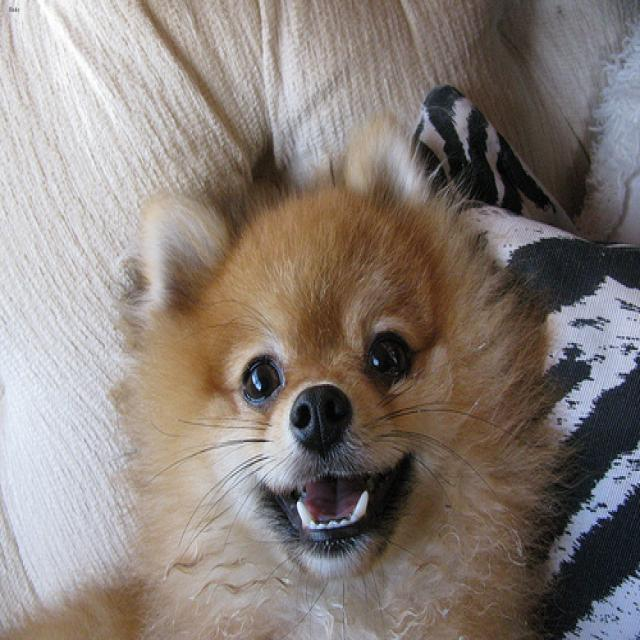dog-pomeranian: (1, 102, 577, 637)
